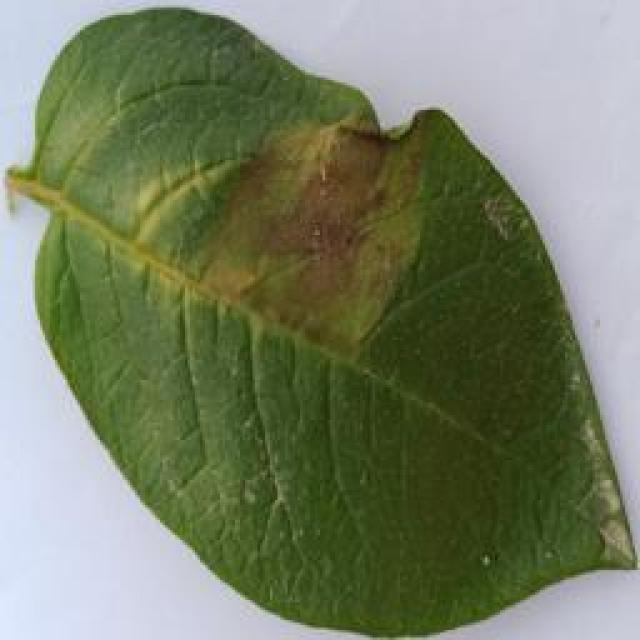Potato_Late_Blight: (24, 10, 640, 621)
